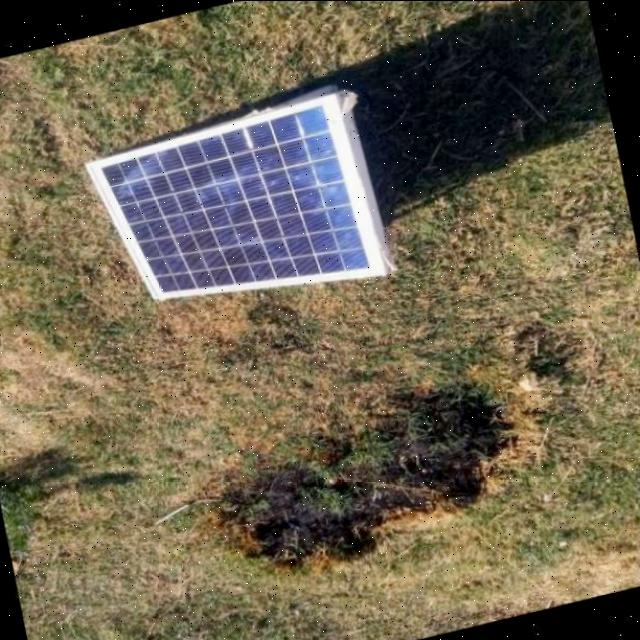Normal Solar Panel: (84, 84, 390, 333)
